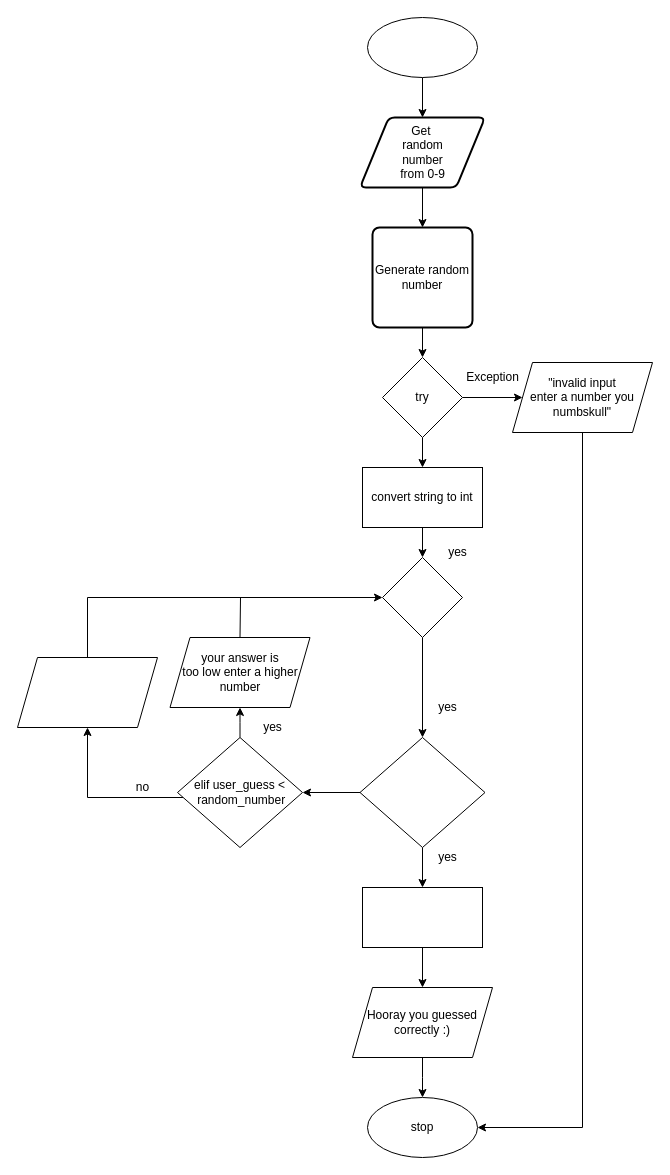
This 670x1175 diagram has some shape labels left out. The box of each missing label's shape, as (x1, y1, x2, y2) in pixels:
break: (362, 886, 482, 948)
if user_guess == random_number: (359, 736, 485, 848)
start: (366, 16, 478, 78)
while: (382, 556, 462, 638)
your answer is too high enter a lower number: (16, 656, 158, 728)
